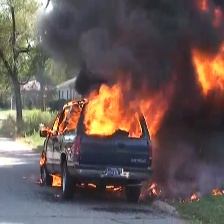fire: (50, 75, 176, 140), (190, 29, 224, 97), (47, 171, 64, 189)
